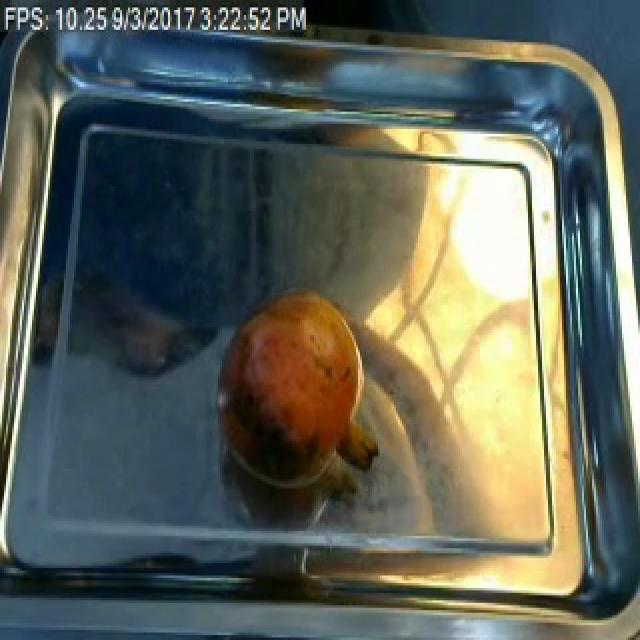fruit: (212, 277, 374, 498)
